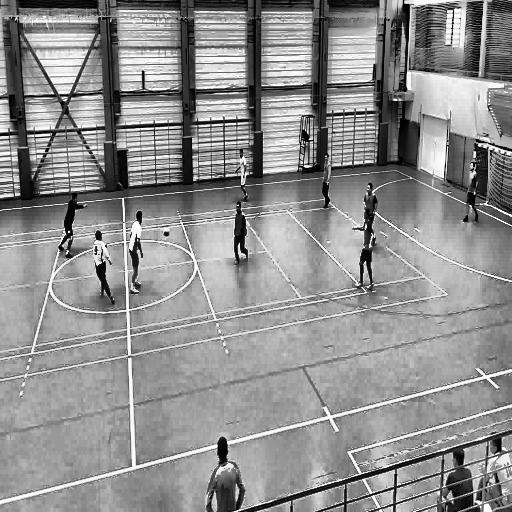ball: (162, 225, 171, 240)
player: (203, 431, 245, 512), (57, 191, 88, 260), (351, 207, 375, 291), (91, 228, 115, 308), (127, 209, 145, 296), (462, 158, 480, 227), (233, 202, 251, 266), (362, 182, 378, 247), (234, 143, 250, 203), (320, 151, 333, 211)
